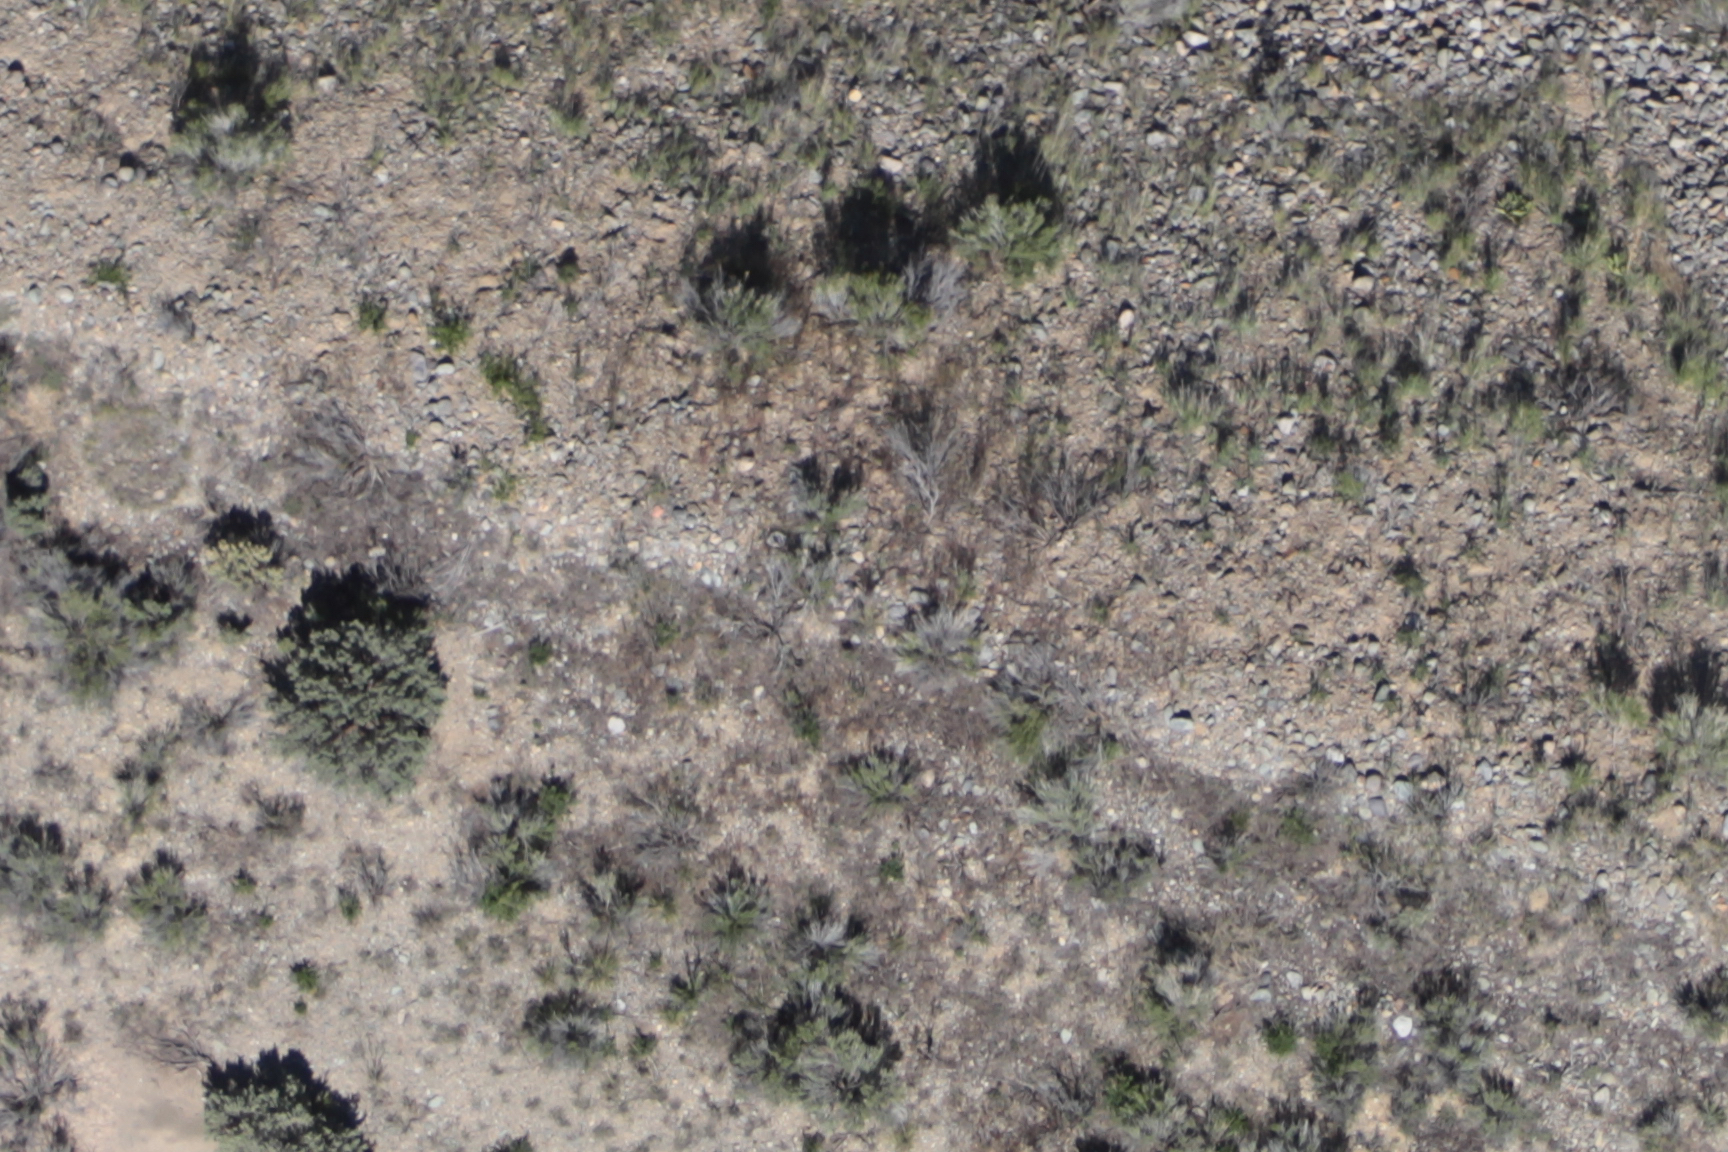burrow: (117, 1085, 198, 1152)
